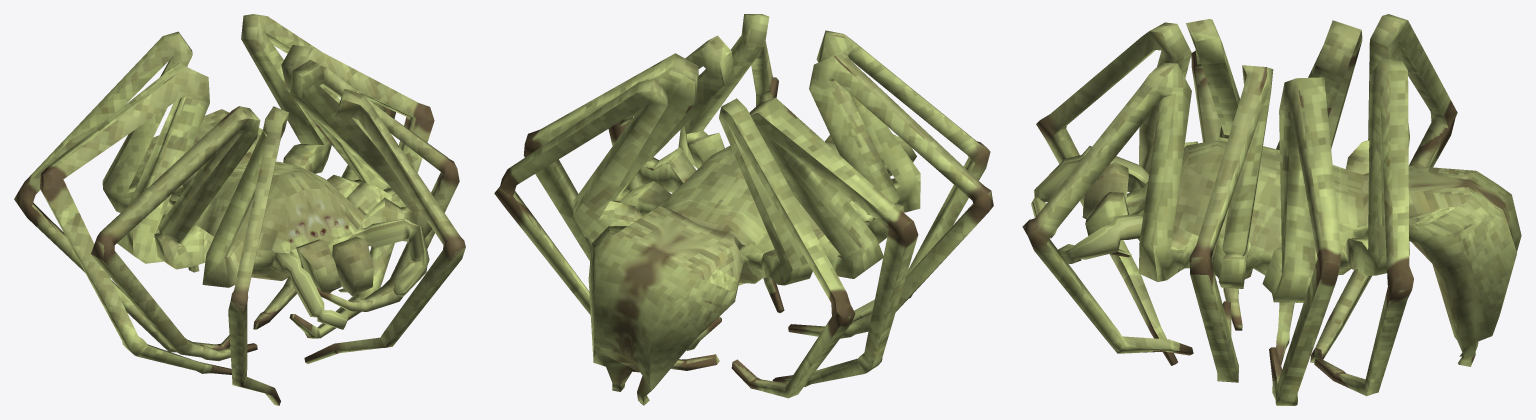
The model's file is deadSpider.fbx.
3 views of the same model, side by side, from view 1: azimuth 30°, elevation 25°; view 2: azimuth 150°, elevation 25°; view 3: azimuth 270°, elevation 25° (orthographic). The views are drawn at different scales.
Visible parts, largest first — view 1: Cube; view 2: Cube; view 3: Cube.
Part boxes in pixels (<box>): Cube: <box>14,14,465,405</box>; Cube: <box>494,14,993,405</box>; Cube: <box>1022,14,1521,405</box>.
Size of the model in its own units: 602 by 451 by 582.
